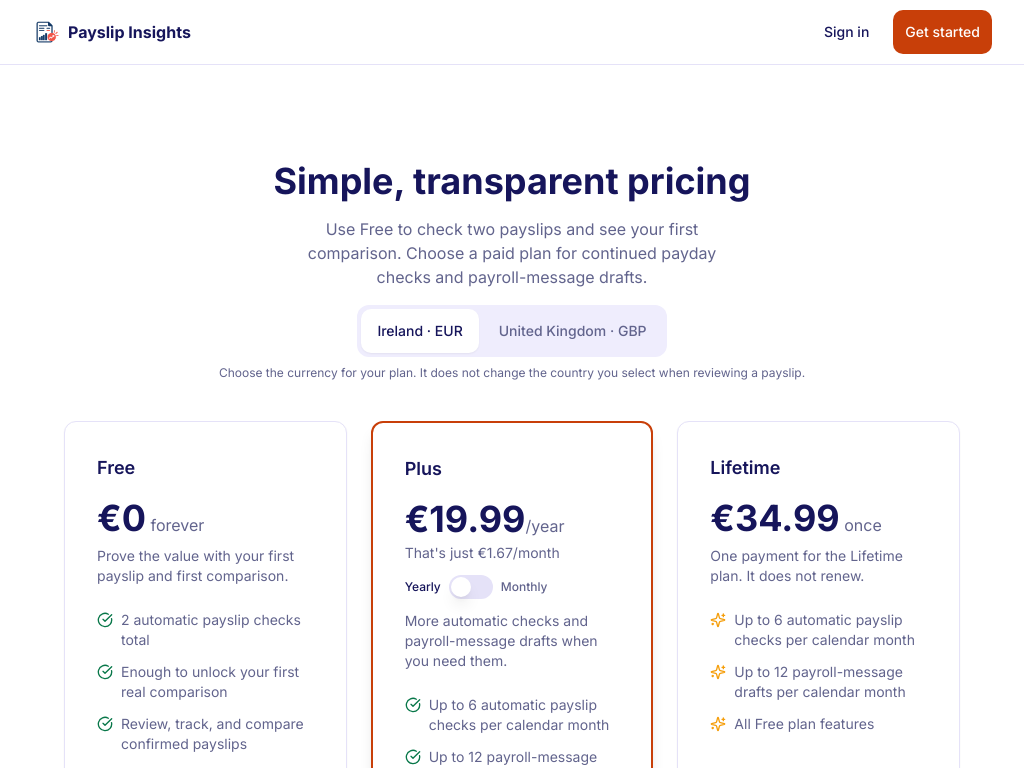
Test case: Pricing › states the recurring charge beside the Plus purchase action
The width and height of the screenshot is (1024, 768).
Step 1. Click the switch named "Use monthly Plus billing" → x=471, y=587, box [449,575,493,599]
(page scrolled)
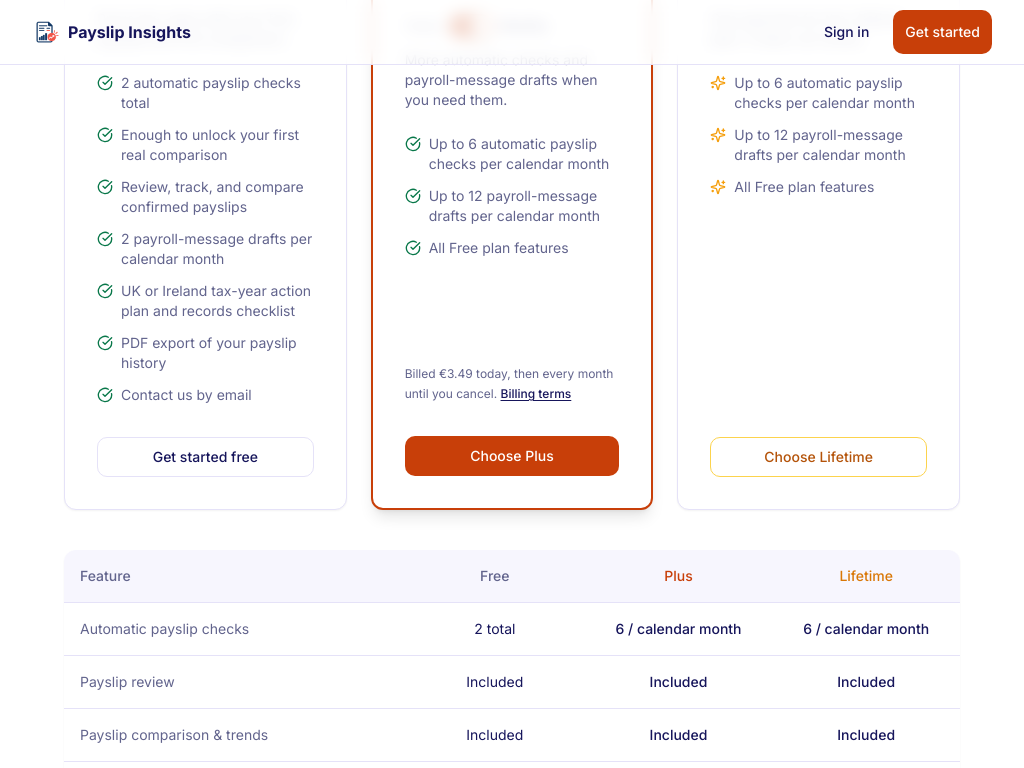
Expected: the text "Billed €3.49 today, then every month until you cancel." is shown, [405,366,614,401]
